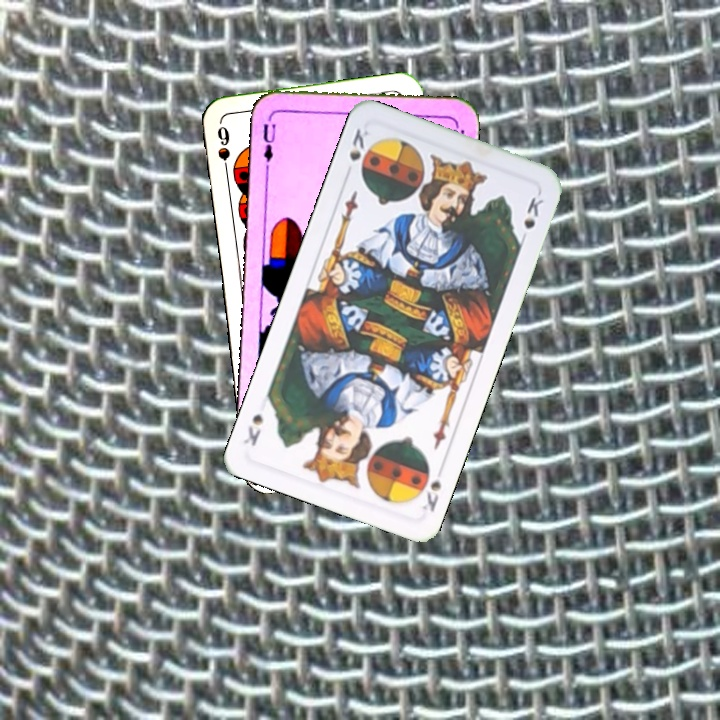EU: (259, 120, 279, 172)
S9: (213, 122, 233, 180)
SK: (345, 124, 374, 179), (416, 475, 444, 517)
